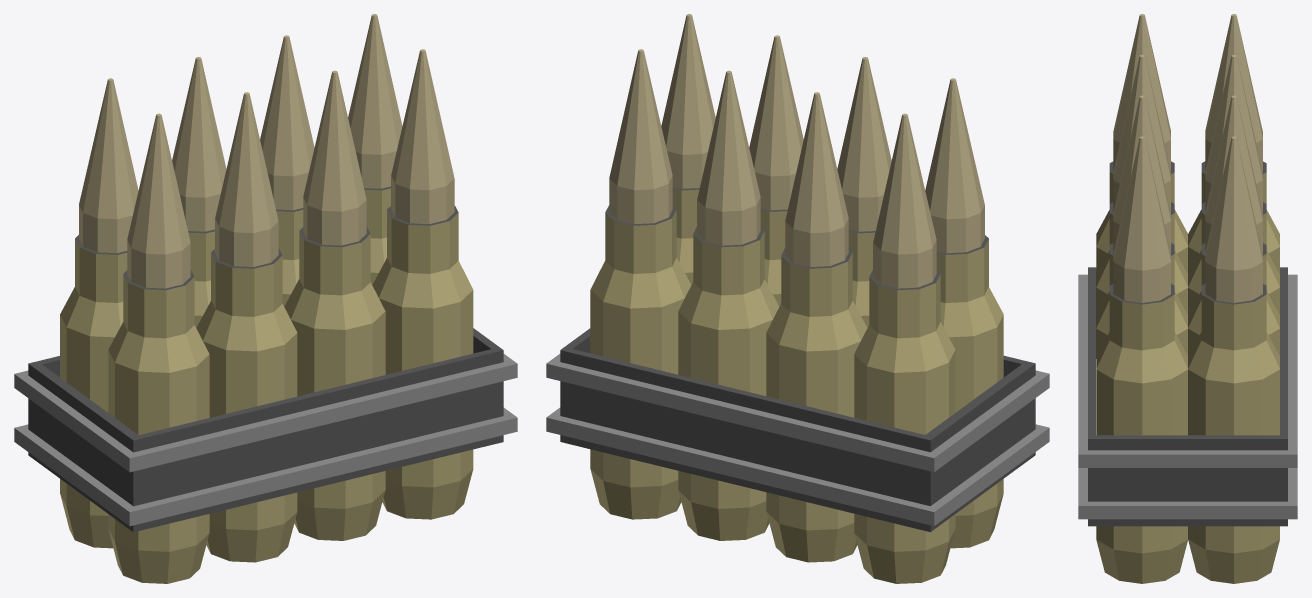
Rendered from ammunition.fbx.
3 renders of one model, left to right at view 1: azimuth 30°, elevation 25°; view 2: azimuth 150°, elevation 25°; view 3: azimuth 270°, elevation 25°, orthographic. The views are drawn at different scales.
Visible parts, largest first — view 1: pCylinder8; view 2: pCylinder8; view 3: pCylinder8.
Part boxes in pixels (x1,y1,x2,y2): pCylinder8: (14,14,517,583); pCylinder8: (546,14,1049,583); pCylinder8: (1078,14,1297,583).
Bounding box in the file's own units: 17.56 × 19.55 × 9.05.
